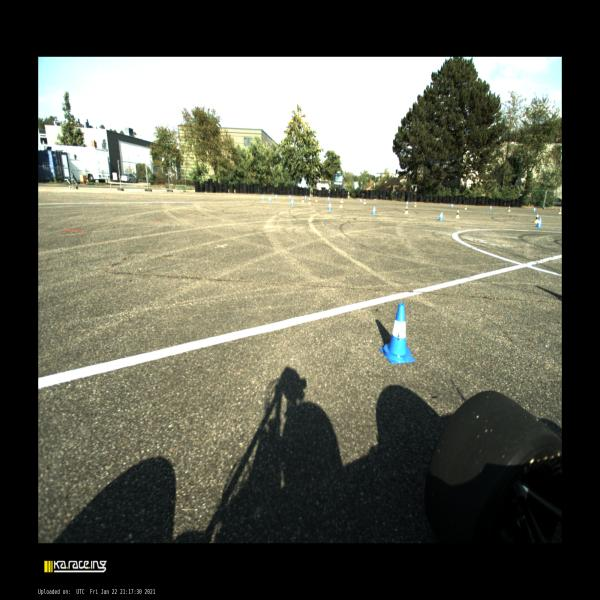blue_cone: (379, 303, 415, 363), (536, 217, 541, 227), (437, 212, 443, 220), (372, 205, 376, 214), (290, 198, 294, 206), (328, 202, 332, 210), (268, 196, 271, 203), (261, 195, 264, 200), (327, 196, 330, 201), (359, 198, 362, 203), (275, 194, 277, 199), (289, 194, 291, 199), (304, 195, 306, 200), (450, 203, 452, 208), (406, 201, 408, 205), (490, 205, 492, 209), (534, 208, 536, 212)
yellow_cone: (455, 210, 460, 219), (534, 214, 538, 223), (404, 206, 408, 214), (339, 201, 343, 208), (314, 196, 318, 202), (308, 198, 311, 204), (363, 199, 366, 205), (301, 197, 304, 202), (464, 204, 467, 209), (558, 209, 561, 214), (508, 206, 510, 212), (414, 202, 416, 207), (341, 198, 343, 202)
